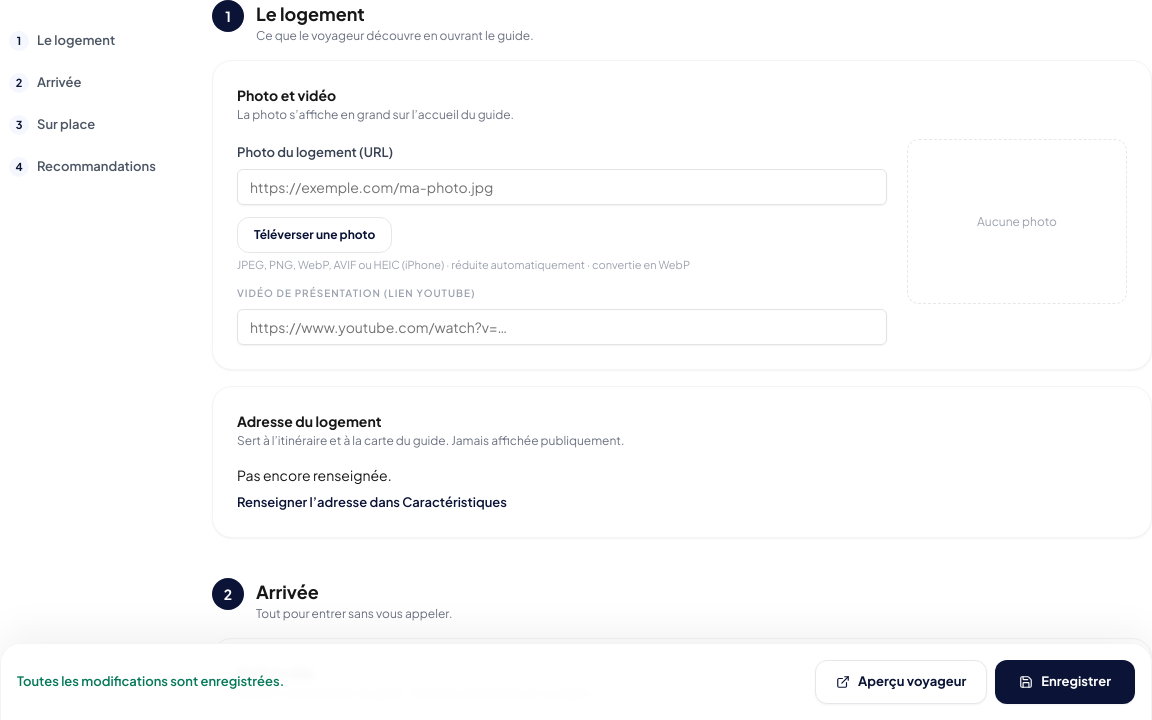
Test: 083 — erreurs affichées sous les champs du Guide › AC-01-01 / AC-01-03 / AC-01-04 : étape entièrement vide signalée sous le champ, rien n’est envoyé, effacée à la correction
Click the button "Enregistrer" at (1065, 682), box [995,660,1135,704]
(page scrolled)
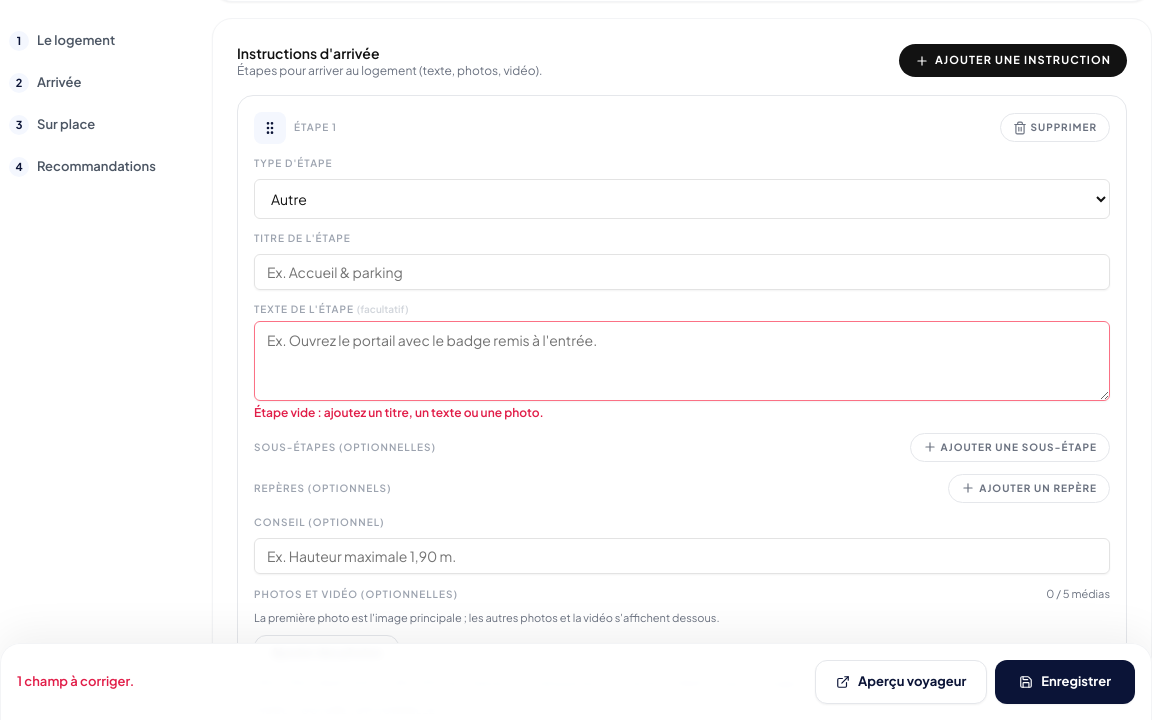
Check: the text "Étape vide : ajoutez un titre, un texte ou une photo." is shown, box [254,404,544,420]
Type "Ouvrez le portail." into the text box named "Texte de l'instruction" at (682, 360), box [254,320,1110,400]
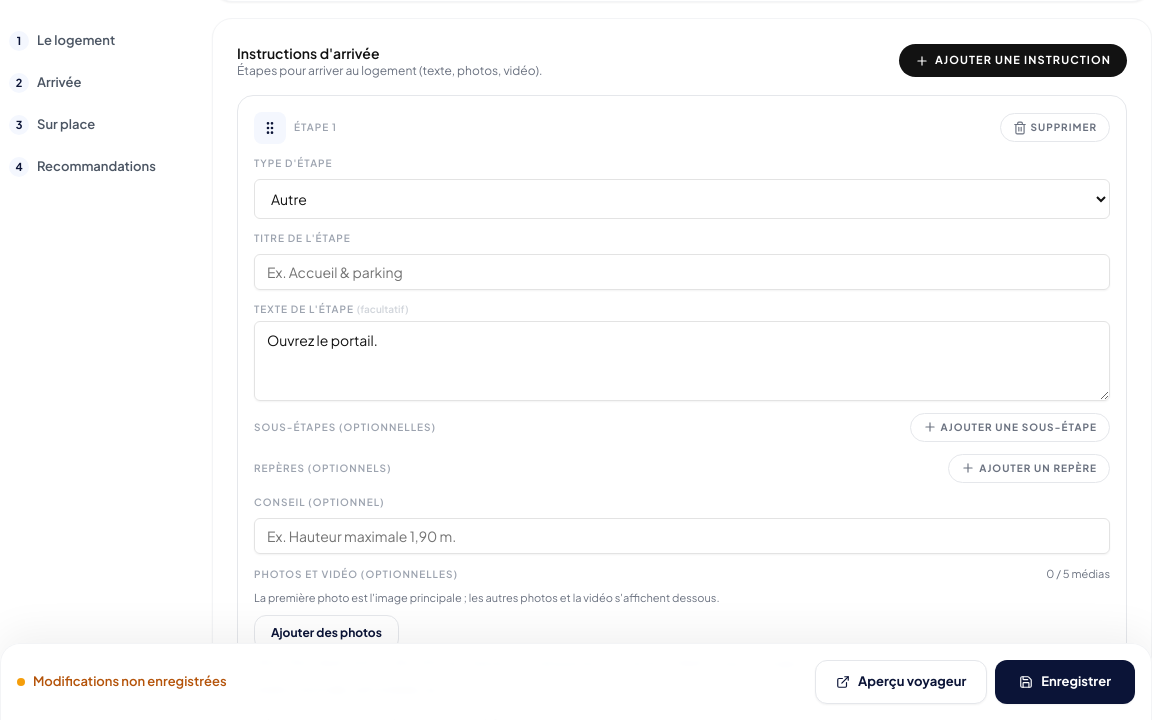
Check: the text "Étape vide" is gone
